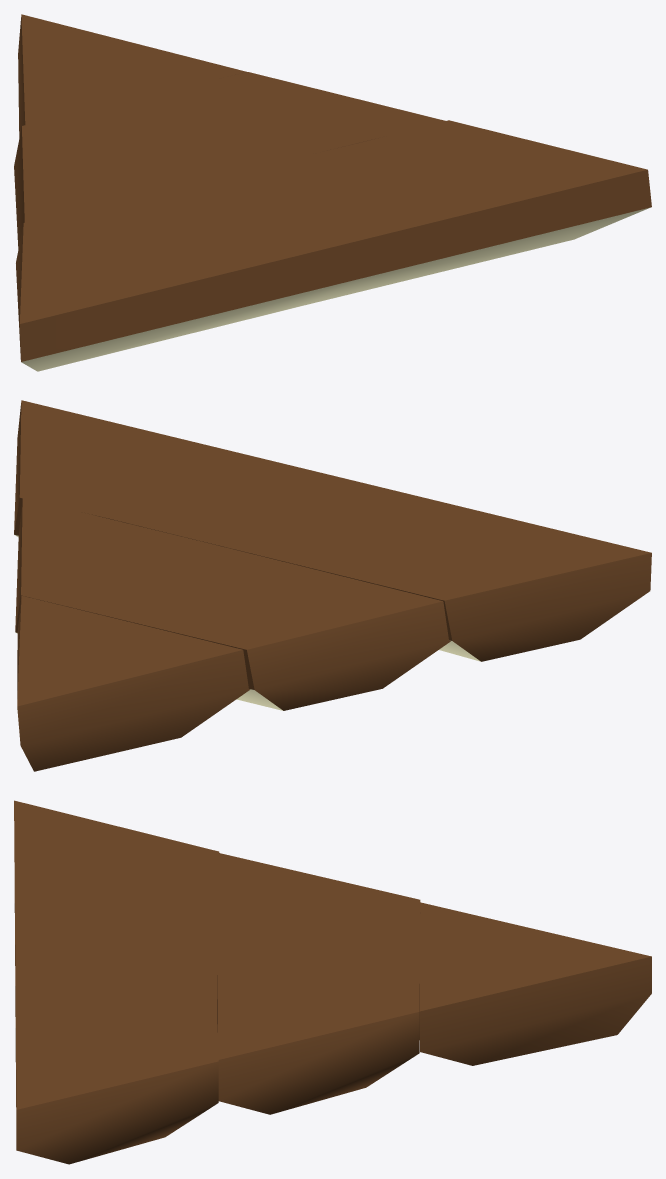
The model's file is birchSplitLogTriFloorSection2.glb.
3 views of the same model, one above another, from view 1: azimuth 30°, elevation 25°; view 2: azimuth 150°, elevation 25°; view 3: azimuth 270°, elevation 25° (orthographic).
Visible parts, largest first — view 1: inside; view 2: inside; view 3: inside.
Boxes of the visible parts, x1,y1,x2,y2 form: inside: (14, 14, 651, 371); inside: (14, 400, 651, 771); inside: (14, 800, 651, 1164).
Bounding box in the file's own units: 1.04 × 0.1233 × 0.8964.
